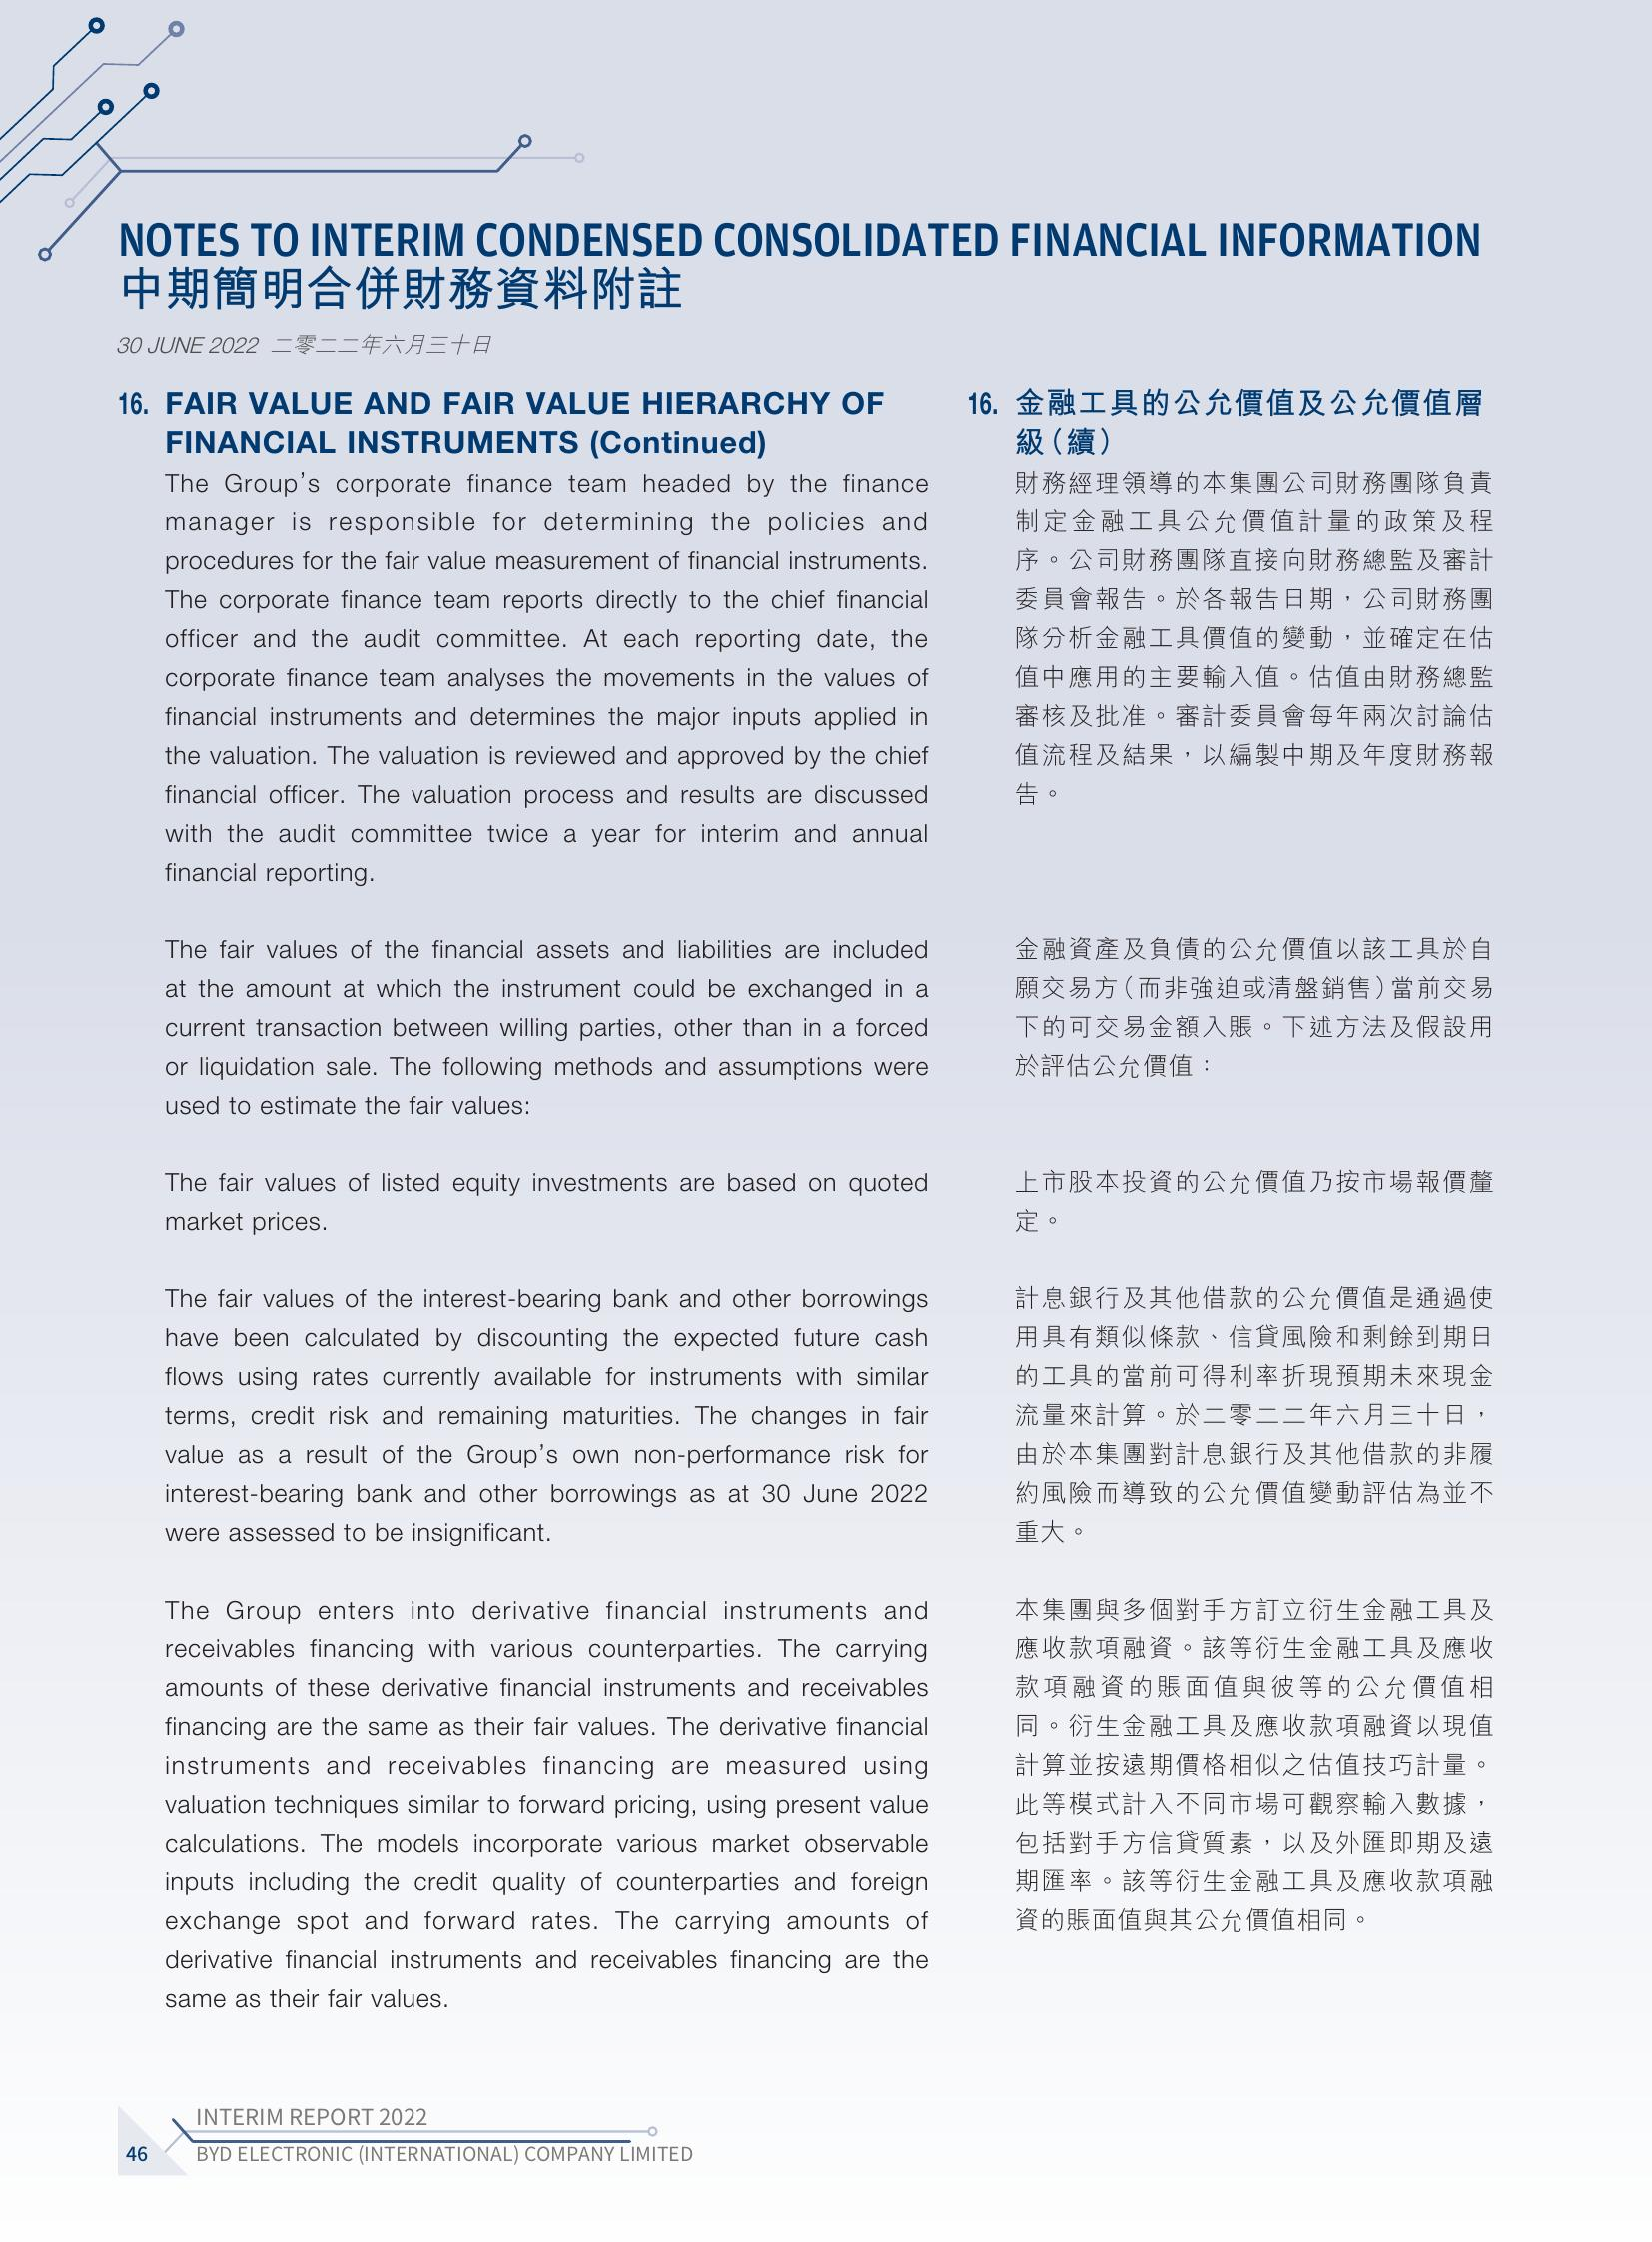Footer: (0, 2077, 1652, 2242)
Header: (0, 0, 1652, 193)
